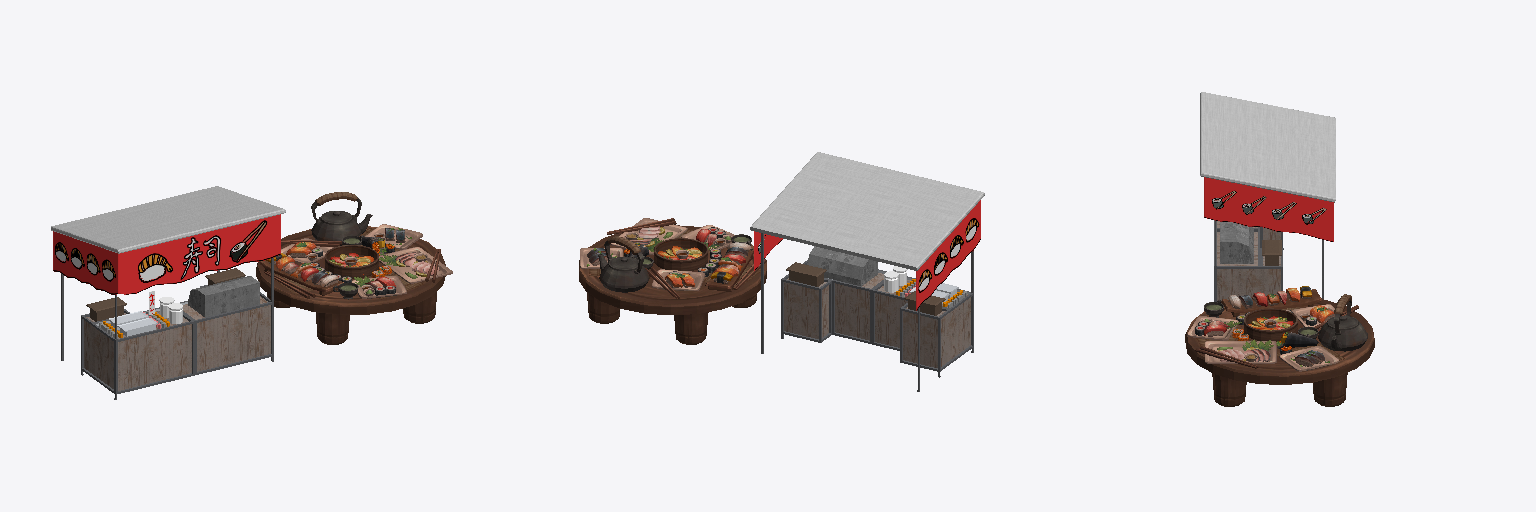
3 views of the same model, side by side, from view 1: azimuth 30°, elevation 25°; view 2: azimuth 150°, elevation 25°; view 3: azimuth 270°, elevation 25° (orthographic).
Parts seen in each view (by area): view 1: object_1, object_0, TextureAtlas02, TextureAtlas; view 2: object_1, TextureAtlas02, TextureAtlas, object_0; view 3: object_1, TextureAtlas02, TextureAtlas, object_0.
Boxes of the visible parts, box(x1,y1,x2,y2) form: object_1: box(51, 186, 285, 399); object_0: box(53, 214, 280, 294); TextureAtlas02: box(256, 192, 445, 344); TextureAtlas: box(258, 224, 452, 298); object_1: box(750, 152, 984, 391); TextureAtlas02: box(579, 225, 766, 344); TextureAtlas: box(580, 218, 766, 298); object_0: box(754, 200, 980, 310); object_1: box(1200, 92, 1335, 301); TextureAtlas02: box(1185, 294, 1374, 406); TextureAtlas: box(1187, 286, 1358, 371); object_0: box(1204, 177, 1333, 241).
Size of the model in its own units: 48.32 by 20.36 by 22.36.
Materials: 4 (4 with a texture image).